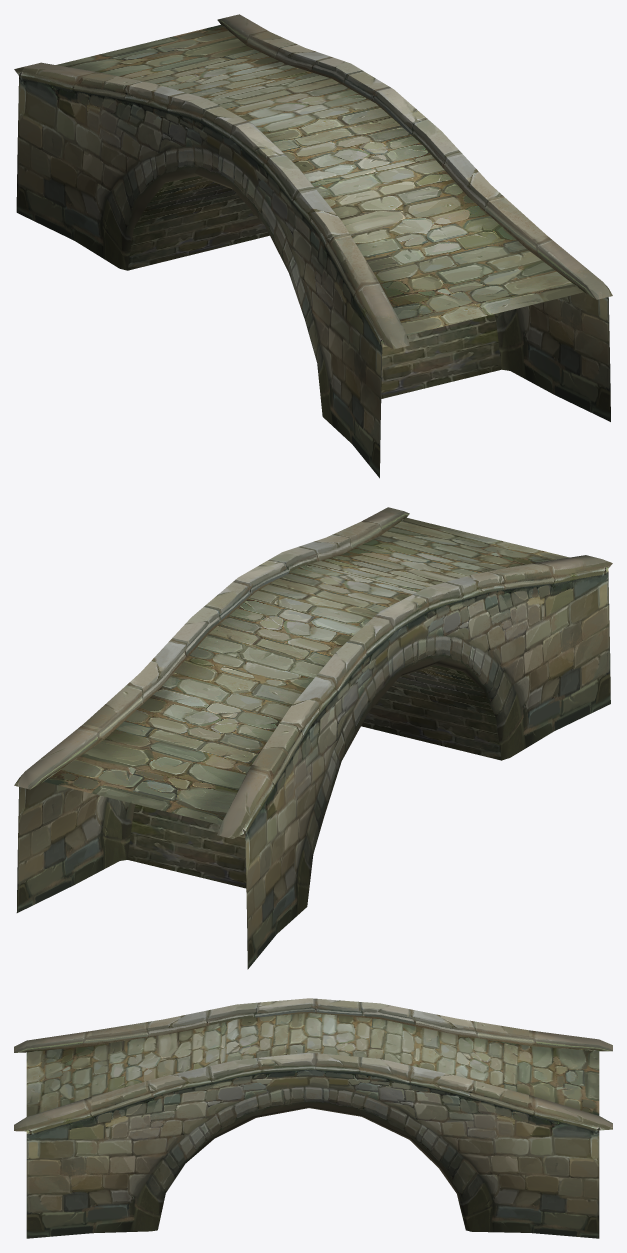
Rendered from WarriorVillage_Bridge.FBX.
3 renders of one model, top to bottom at view 1: azimuth 30°, elevation 25°; view 2: azimuth 150°, elevation 25°; view 3: azimuth 270°, elevation 25°, orthographic. The views are drawn at different scales.
Parts seen in each view (by area): view 1: WarriorVillage_Bridge; view 2: WarriorVillage_Bridge; view 3: WarriorVillage_Bridge.
Part boxes in pixels (box(x1,y1,x2,y2)): WarriorVillage_Bridge: box(14, 14, 612, 478); WarriorVillage_Bridge: box(14, 507, 612, 969); WarriorVillage_Bridge: box(14, 998, 612, 1238).
Size of the model in its own units: 664 by 584 by 1892.
